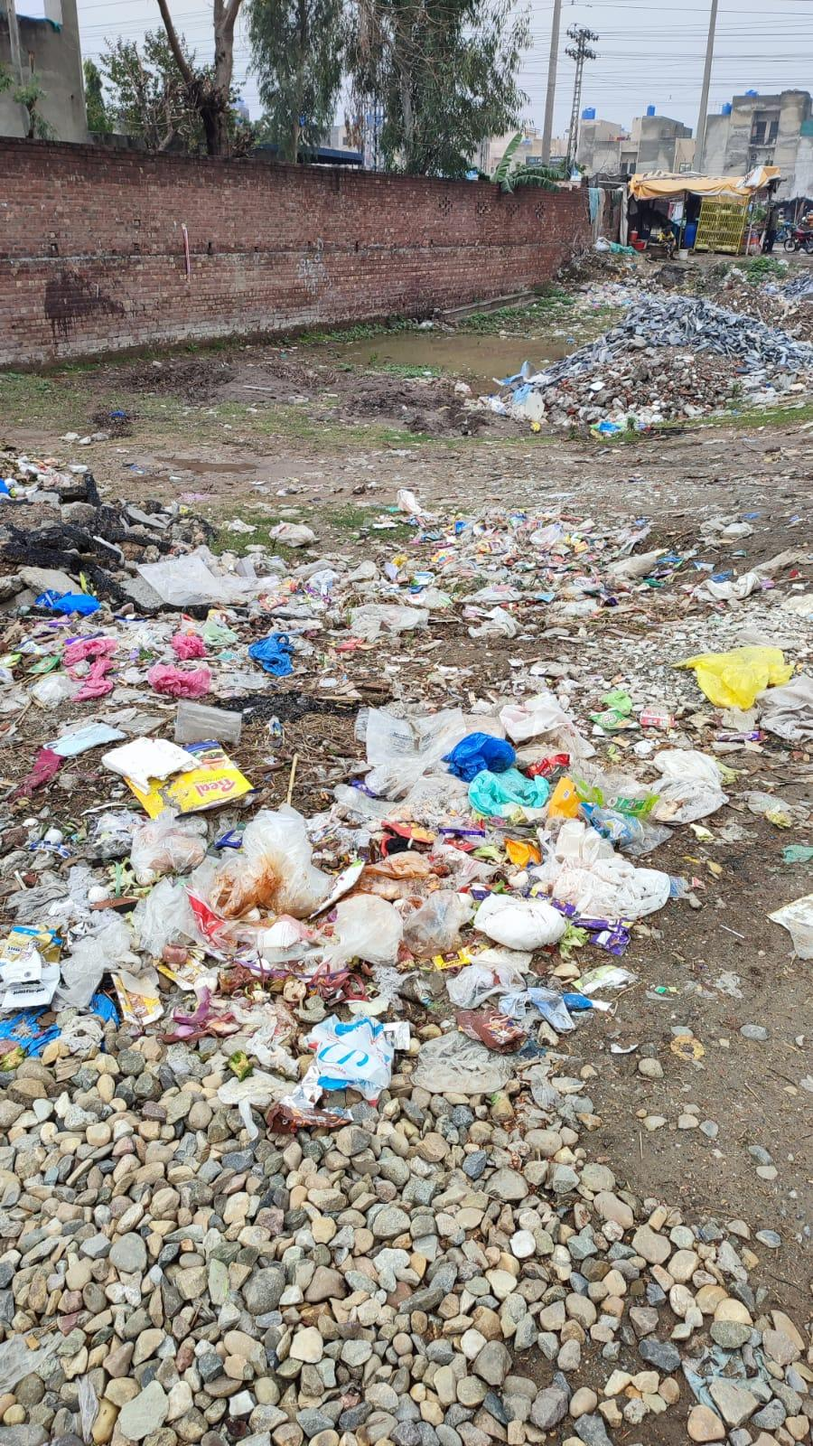garbage: (0, 443, 813, 1061), (597, 248, 810, 405)
